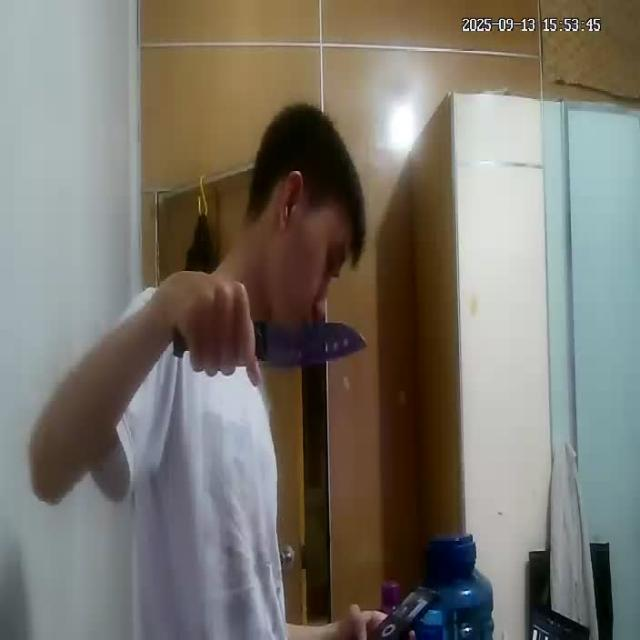senjata_tajam: (256, 318, 370, 371)
